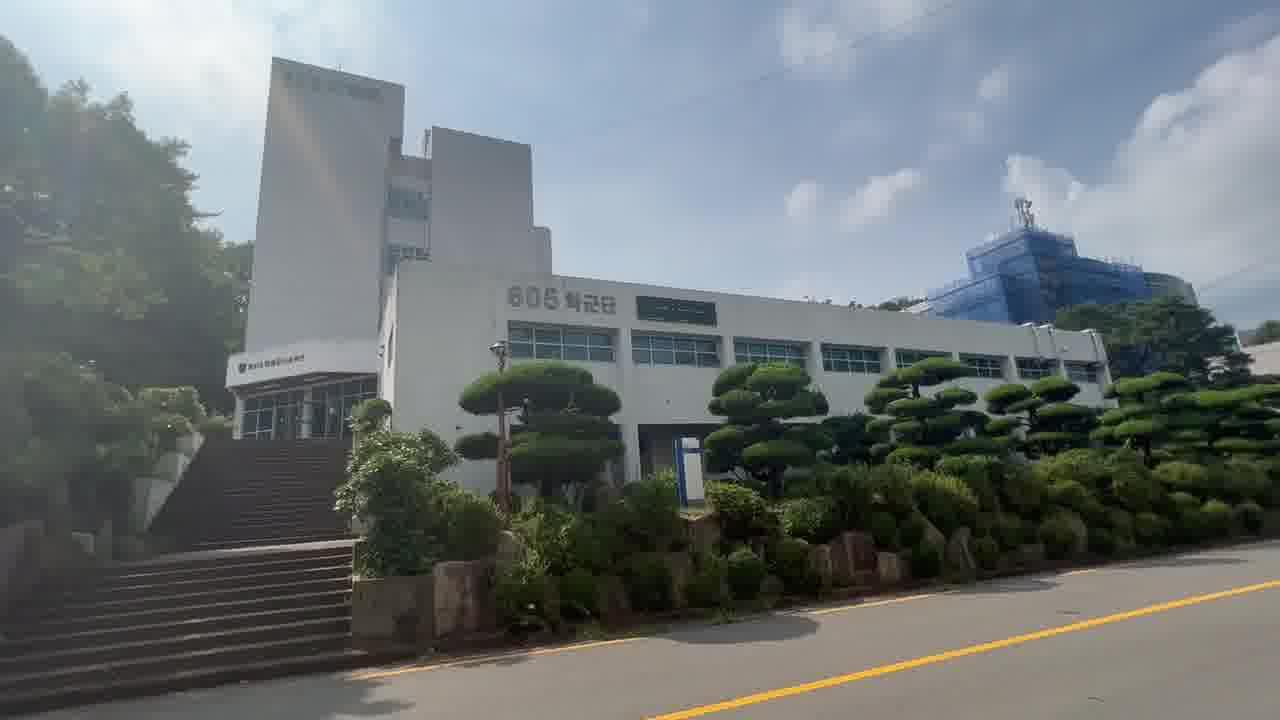building: (213, 40, 734, 458)
